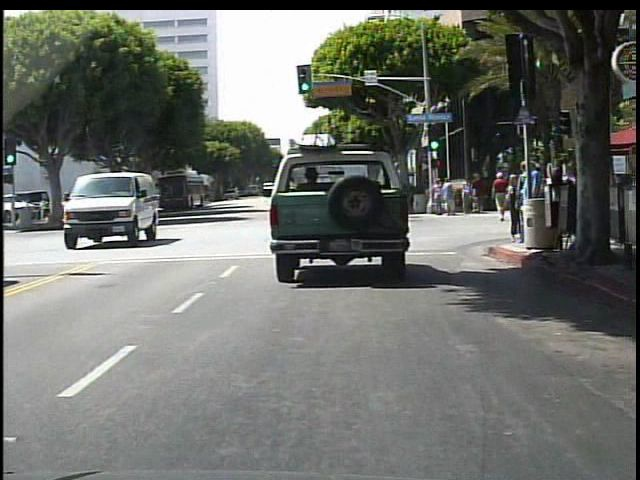person: (522, 158, 546, 249), (503, 170, 522, 242), (491, 170, 509, 222), (520, 177, 538, 227), (539, 172, 553, 219), (441, 179, 455, 218), (473, 171, 485, 212), (461, 177, 472, 214), (435, 181, 446, 217)
